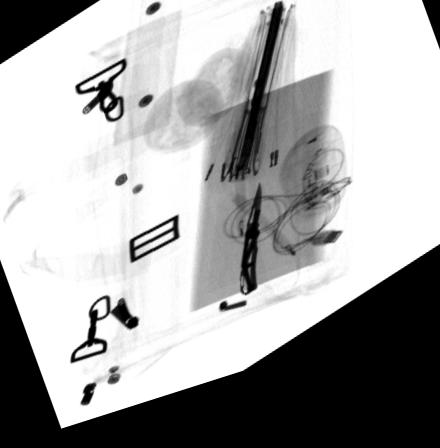Knife: (238, 198, 262, 312)
